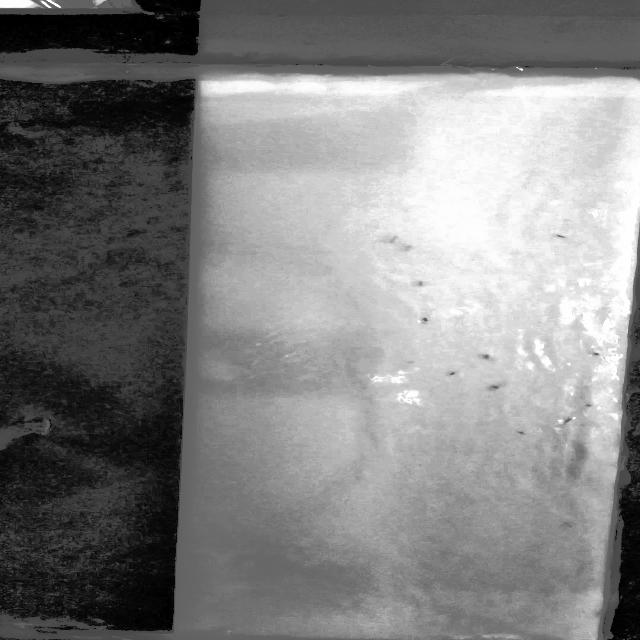shrimp: (546, 230, 576, 240), (478, 353, 504, 361), (585, 350, 604, 360), (487, 383, 508, 392), (564, 415, 582, 425), (516, 426, 532, 435), (446, 369, 466, 376), (384, 235, 404, 242), (418, 314, 433, 322), (414, 280, 431, 286), (582, 403, 602, 408), (395, 247, 413, 250)
